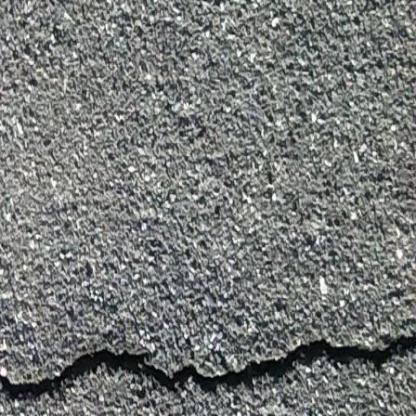Cracks: (0, 335, 416, 386)
